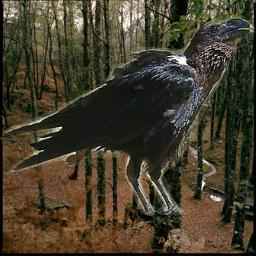Crow: (0, 17, 255, 215)
